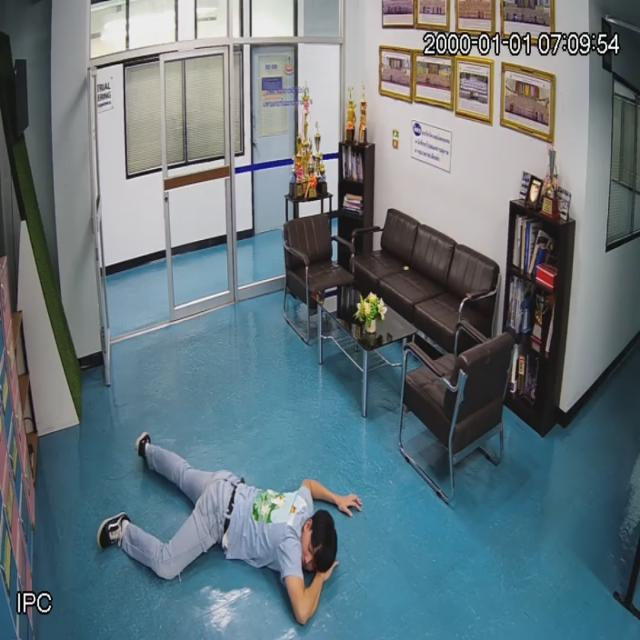fall: (105, 436, 357, 620)
